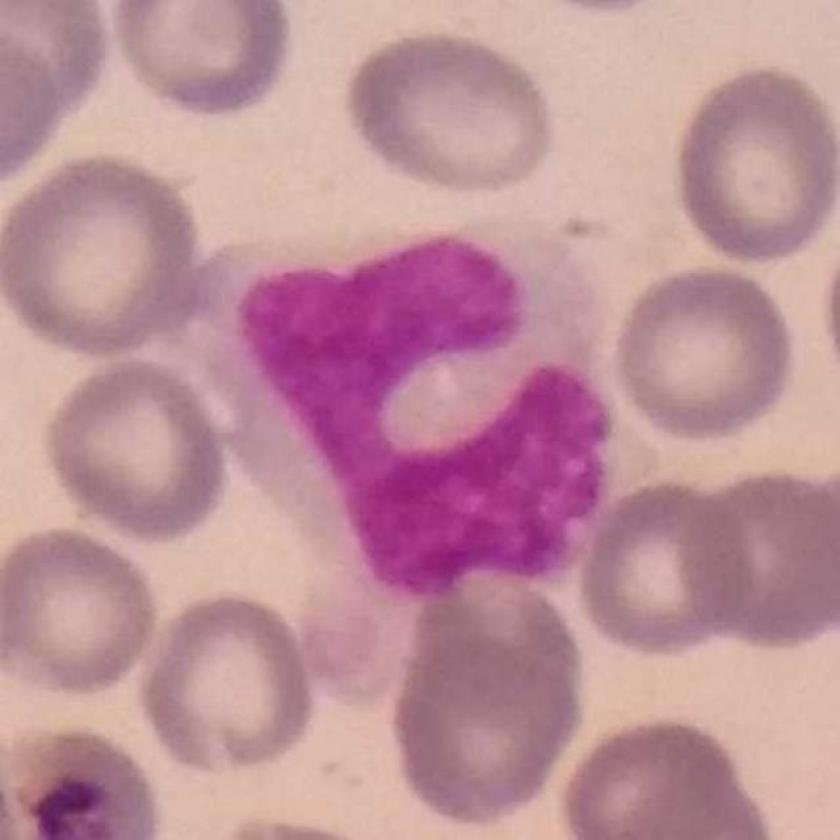monocyte: (174, 206, 681, 714)
